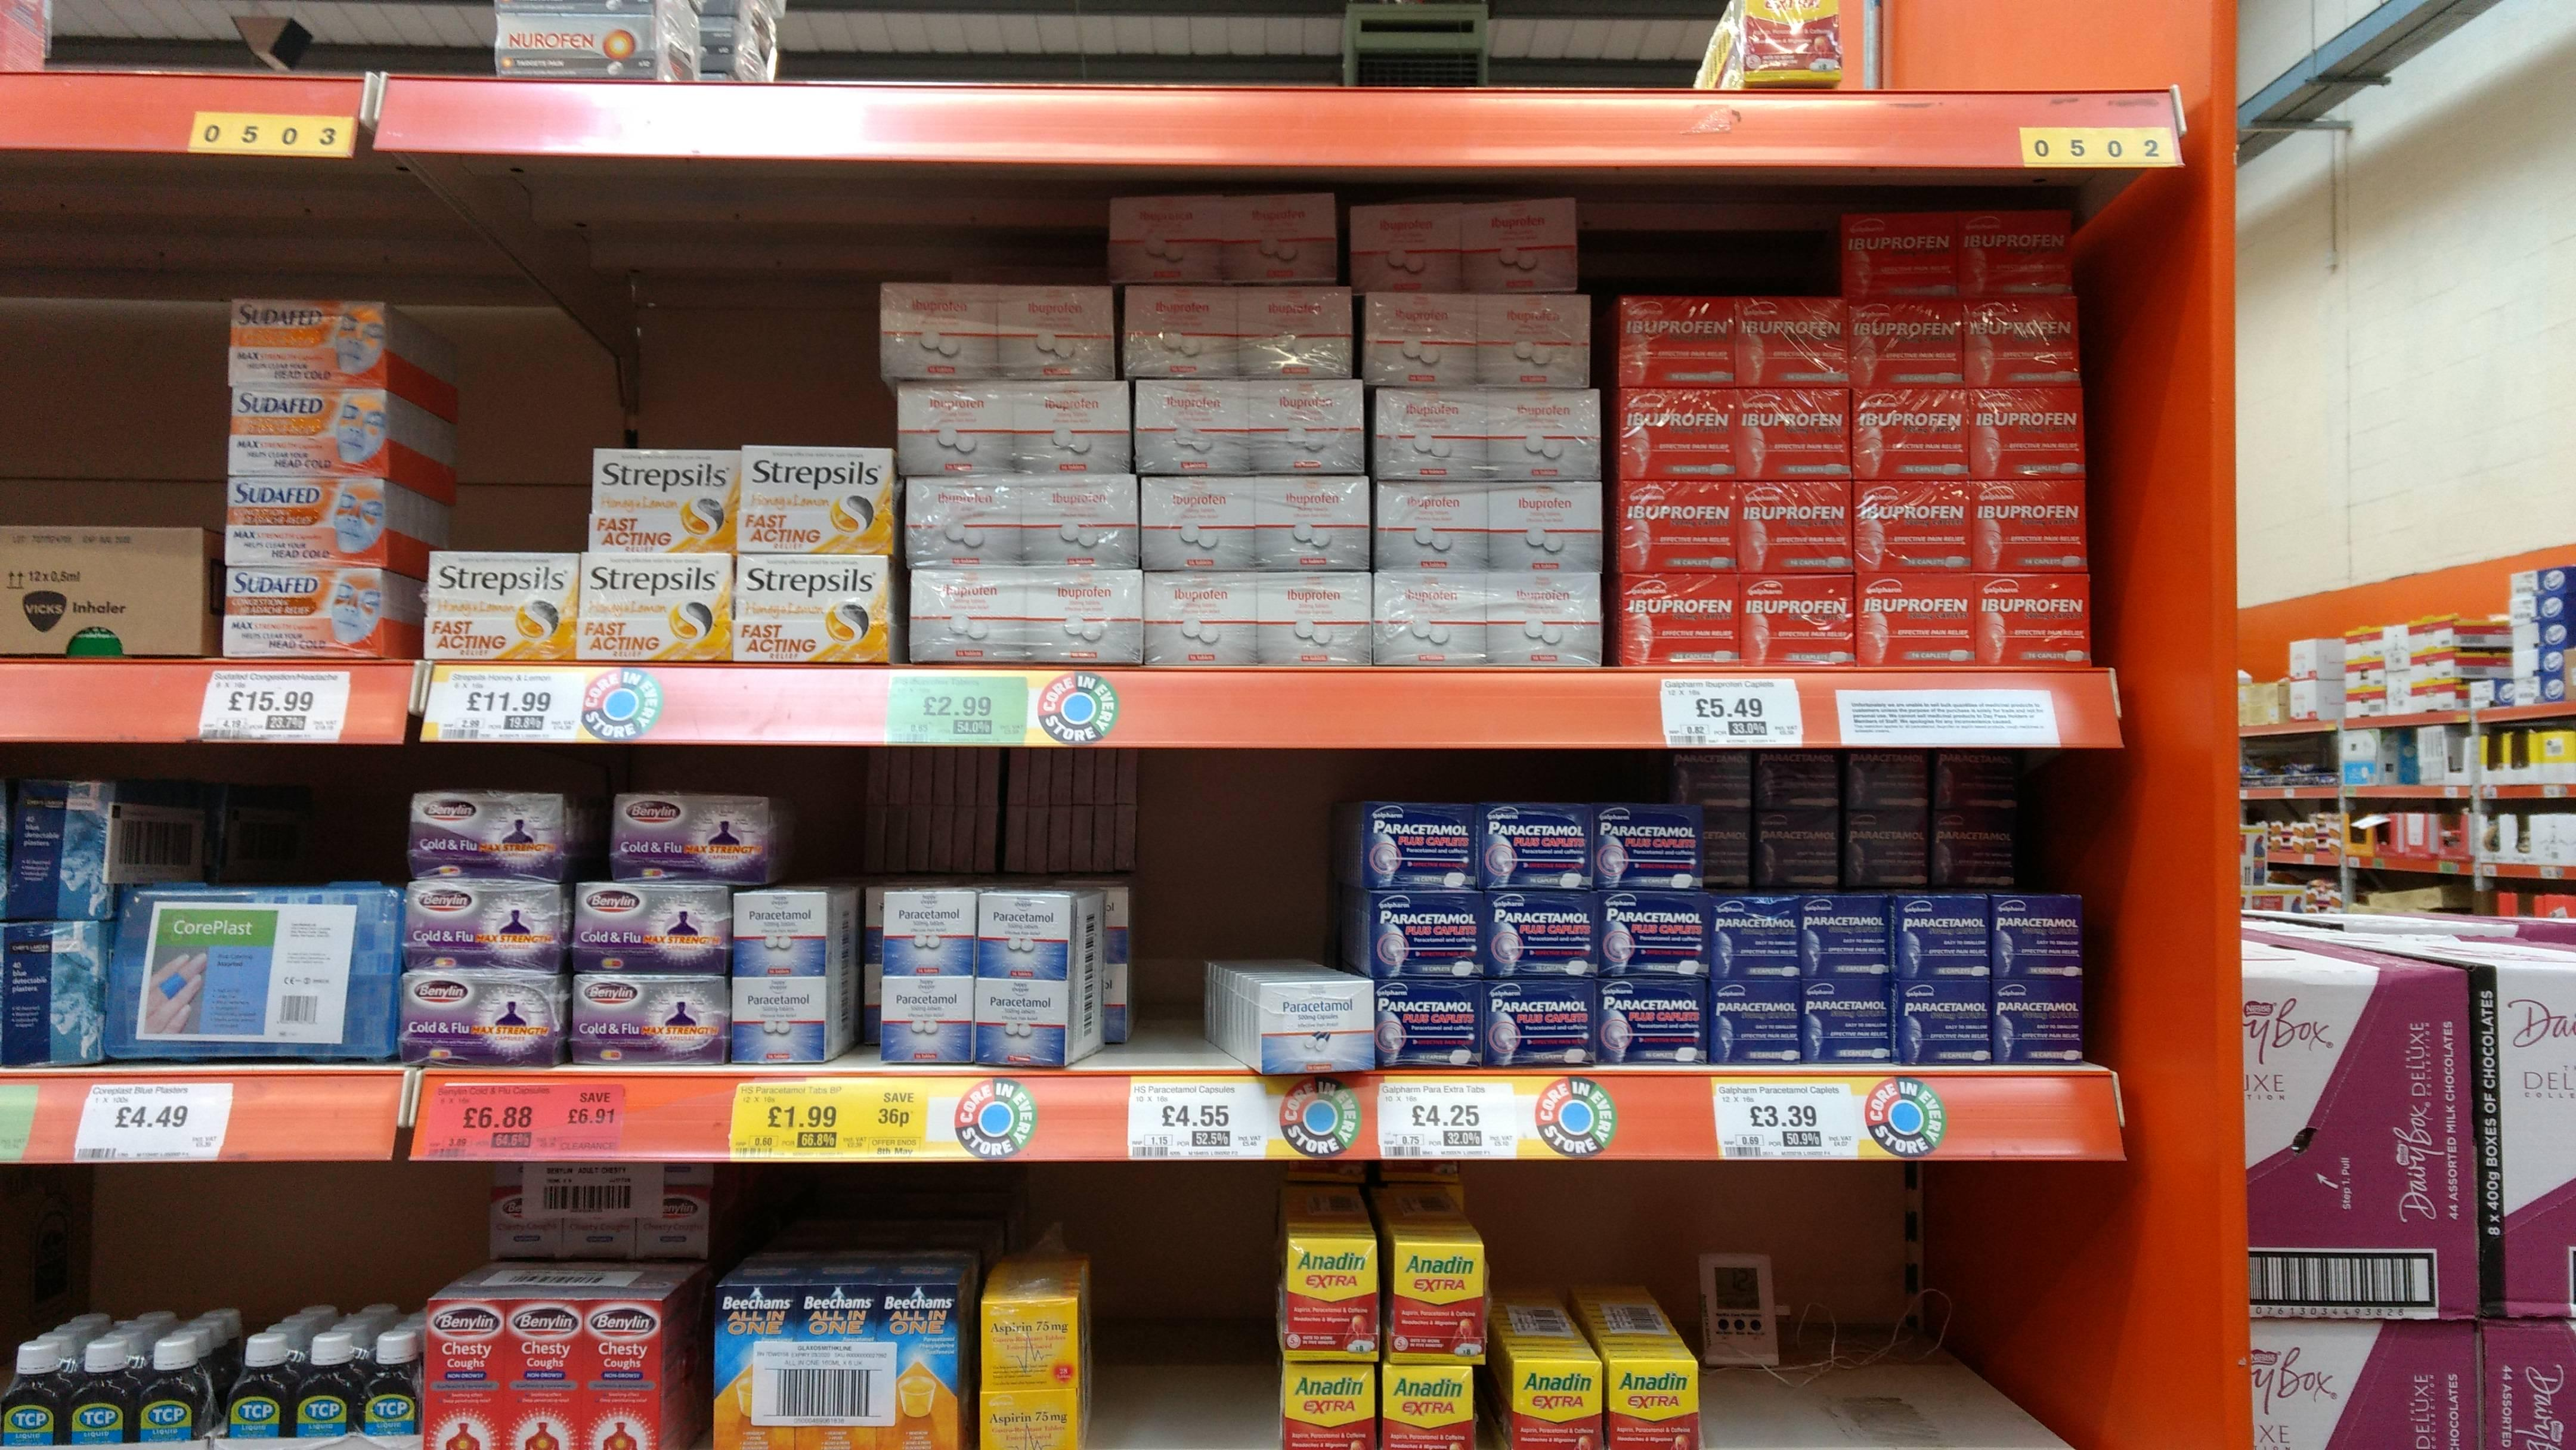misalignment: (1200, 912, 1376, 1080), (985, 893, 1090, 1063)
